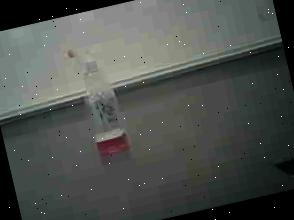hazard: (58, 38, 137, 167)
